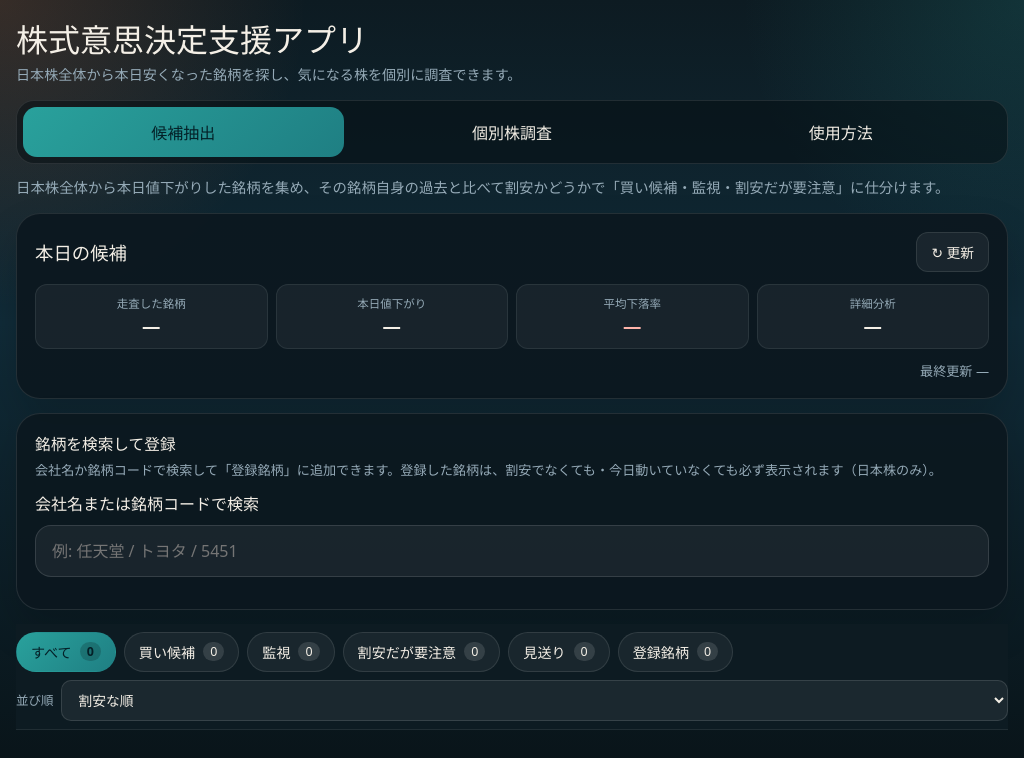
App › 初期表示は候補抽出タブで、個別株調査へ切替できる
Expected: the heading "株式意思決定支援アプリ" is shown, [16, 18, 368, 61]
Expected: the tab "候補抽出" is shown, [23, 107, 344, 157]
Click the tab "個別株調査": click(512, 132) [352, 107, 672, 157]
(page scrolled)
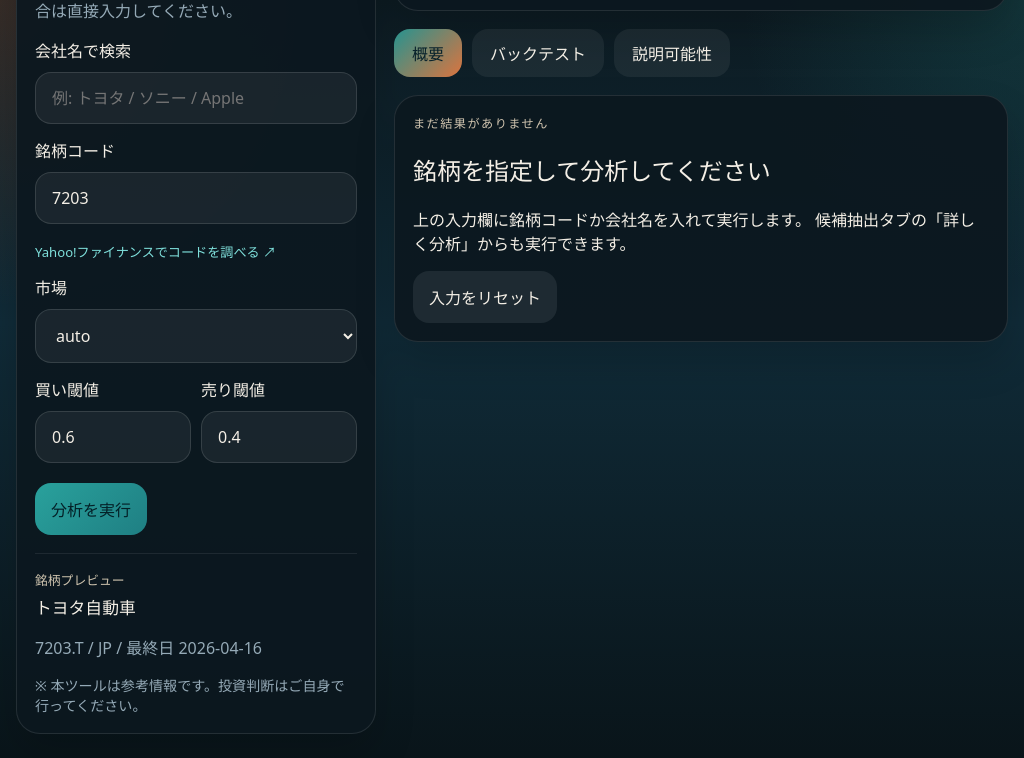
Now the button "分析を実行" is shown, box [35, 483, 147, 535]
